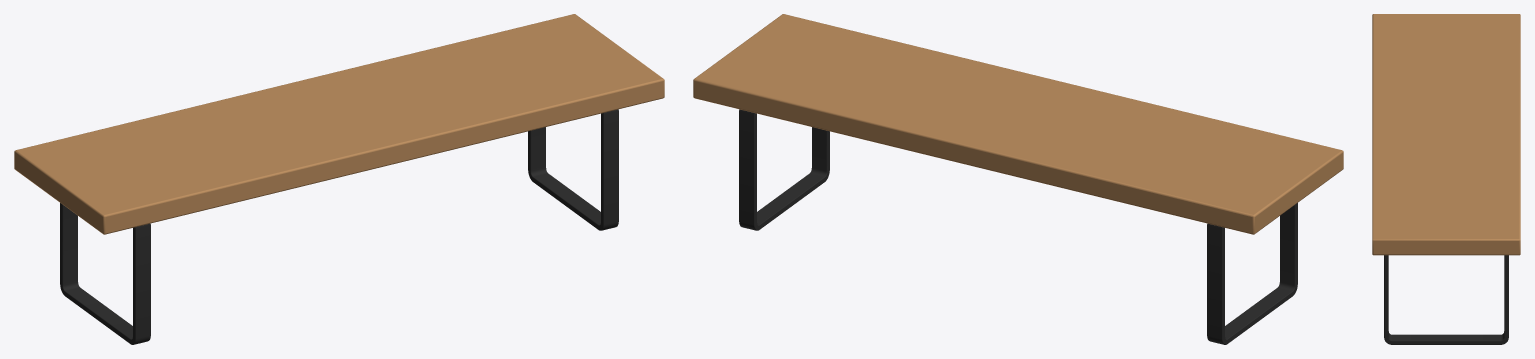
The model's file is bench.glb.
The picture shows the model from 3 angles, left to right: view 1: azimuth 30°, elevation 25°; view 2: azimuth 150°, elevation 25°; view 3: azimuth 270°, elevation 25°; orthographic projection. The views are drawn at different scales.
Visible parts, largest first — view 1: Bench; view 2: Bench; view 3: Bench.
Part boxes in pixels (left/top/right/bottom): Bench: left=14, top=14, right=664, bottom=344; Bench: left=693, top=14, right=1343, bottom=344; Bench: left=1372, top=14, right=1520, bottom=344.
Size of the model in its own units: 1.8 by 0.45 by 0.5.
